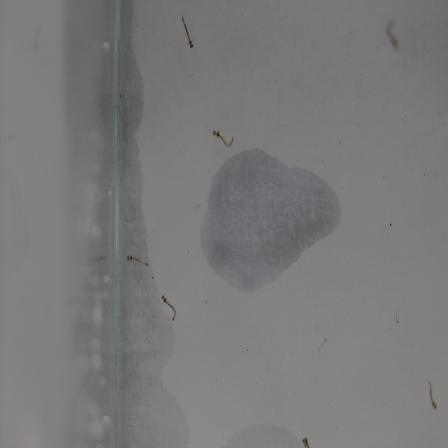Jentik-Nyamuk: (174, 9, 200, 55), (209, 123, 240, 153), (156, 293, 180, 327), (122, 248, 155, 271), (423, 376, 441, 411)
